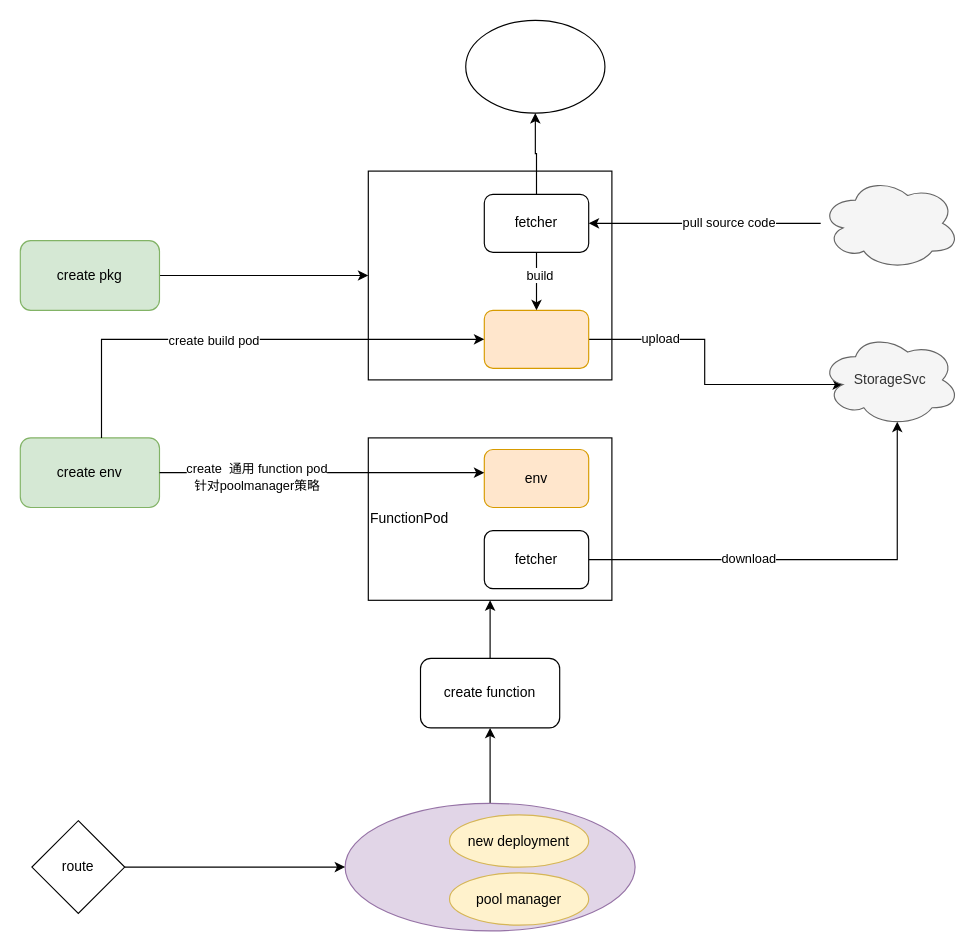
Image size: 980x951. Some labels were removed from this diagram. Here are the shapes that lost their labels. From the top down, the box of each, then its label:
(465, 19, 605, 113): 更新判断，按照commit hash
(820, 176, 960, 270): git
(367, 170, 612, 380): BuildManager
(483, 309, 589, 368): builder
(344, 802, 635, 931): Executor
